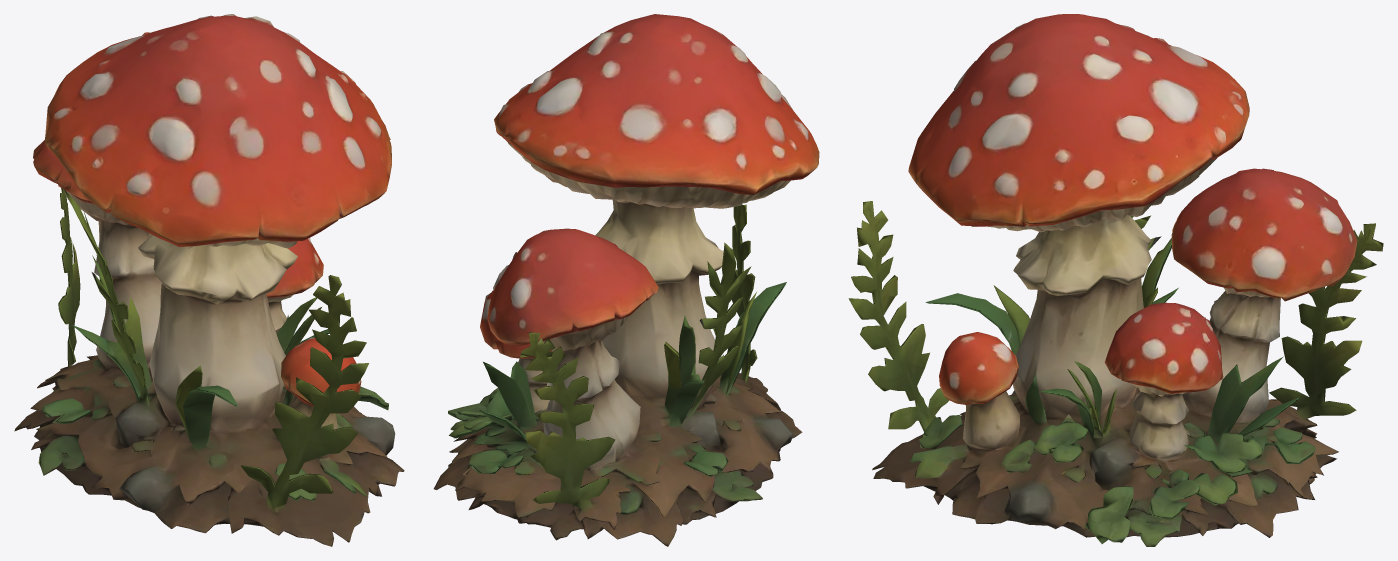
Rendered from hongo.glb.
The picture shows the model from 3 angles, left to right: view 1: azimuth 30°, elevation 25°; view 2: azimuth 150°, elevation 25°; view 3: azimuth 270°, elevation 25°; orthographic projection. The views are drawn at different scales.
Visible parts, largest first — view 1: tripo_node_9be09704-4597-43e5-bf44-ead0664a4cbd; view 2: tripo_node_9be09704-4597-43e5-bf44-ead0664a4cbd; view 3: tripo_node_9be09704-4597-43e5-bf44-ead0664a4cbd.
Part boxes in pixels (x1,y1,x2,y2): tripo_node_9be09704-4597-43e5-bf44-ead0664a4cbd: (14, 14, 404, 546); tripo_node_9be09704-4597-43e5-bf44-ead0664a4cbd: (433, 14, 819, 546); tripo_node_9be09704-4597-43e5-bf44-ead0664a4cbd: (848, 14, 1383, 546).
Size of the model in its own units: 0.7071 by 0.9245 by 1.
1 material, 1 textured.
